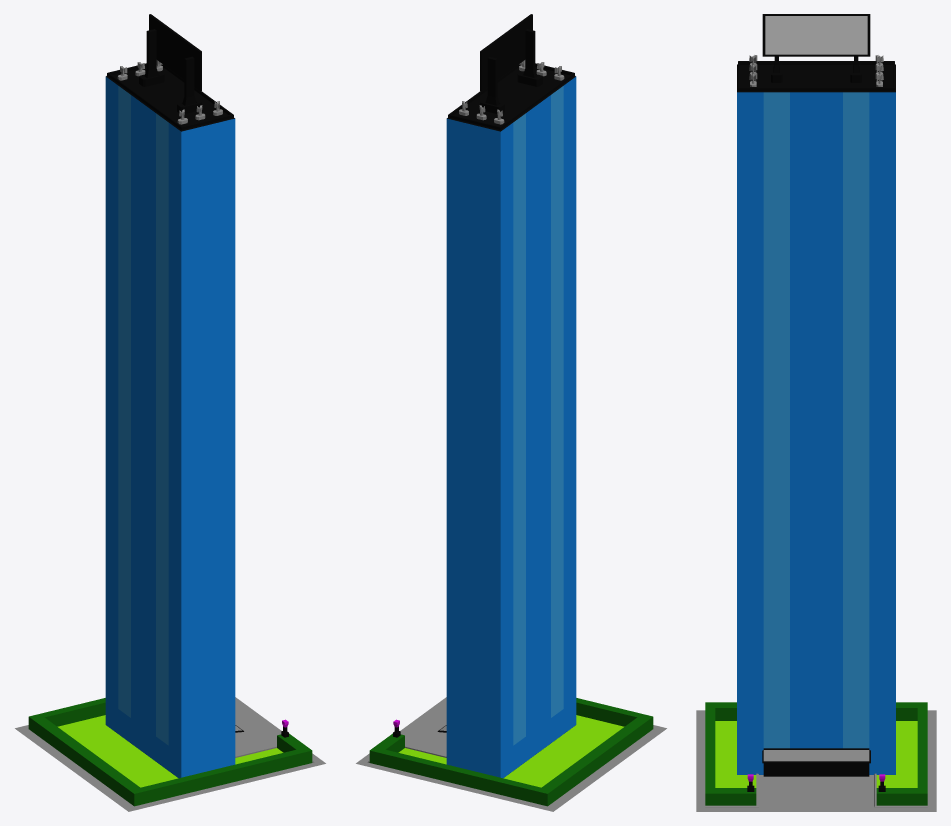
The model's file is Building-S2.fbx.
3 renders of one model, left to right at view 1: azimuth 30°, elevation 25°; view 2: azimuth 150°, elevation 25°; view 3: azimuth 270°, elevation 25°, orthographic. The views are drawn at different scales.
Parts seen in each view (by area): view 1: Cube.001; view 2: Cube.001; view 3: Cube.001.
Boxes of the visible parts, x1,y1,x2,y2 form: Cube.001: (15,14,325,811); Cube.001: (356,14,666,811); Cube.001: (696,14,936,811).
Size of the model in its own units: 154 by 530 by 154.
